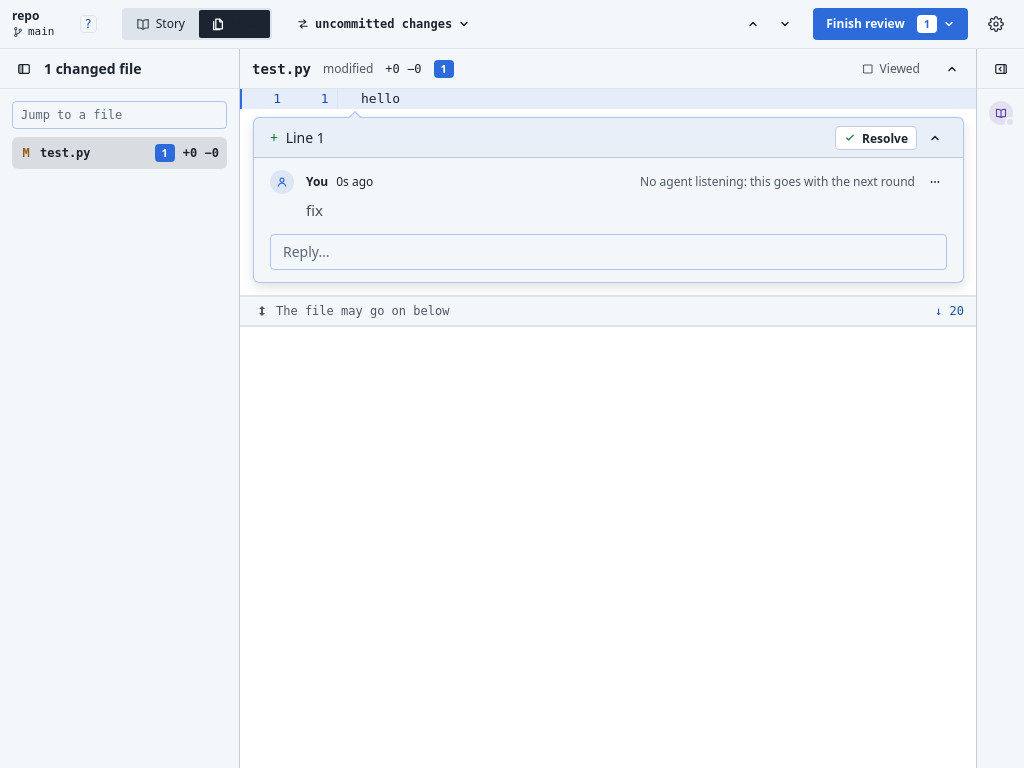
Test: the pane the review is sent from › takes the reader, keyboard and all, to the thread a row of the pane names, though a field opened it
Click the button with test id "line-gutter" at (313, 99), box [289,89,336,109]
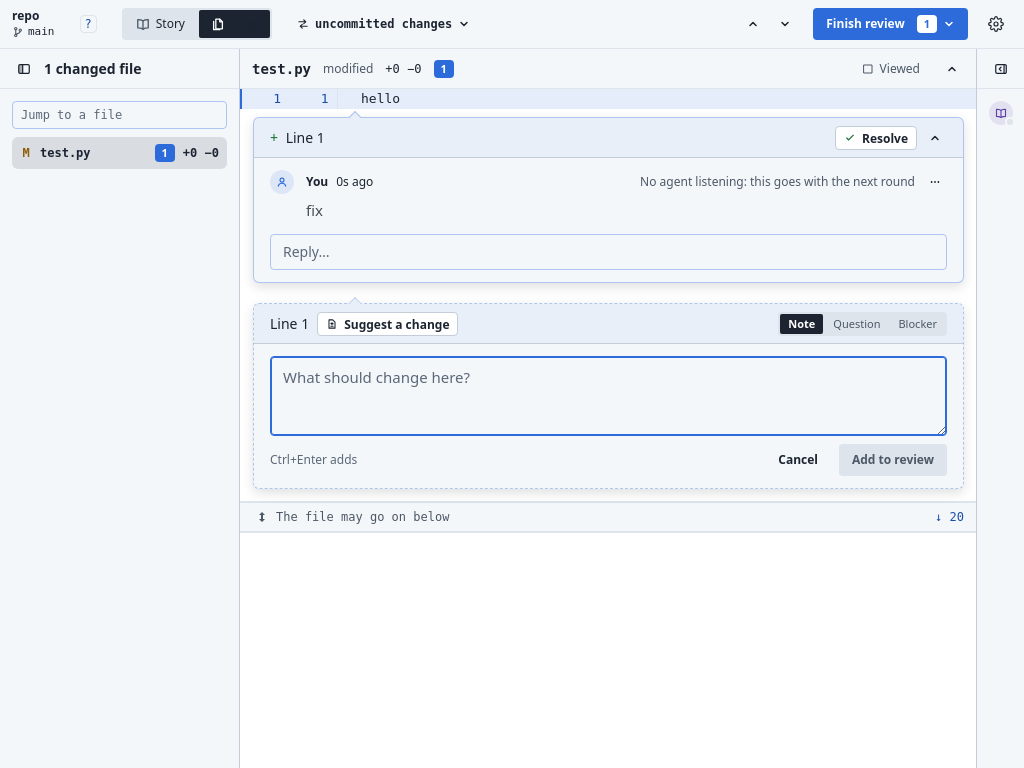
Type keys "{Control>}{Shift>}{Enter}{/Shift}{/Control}"
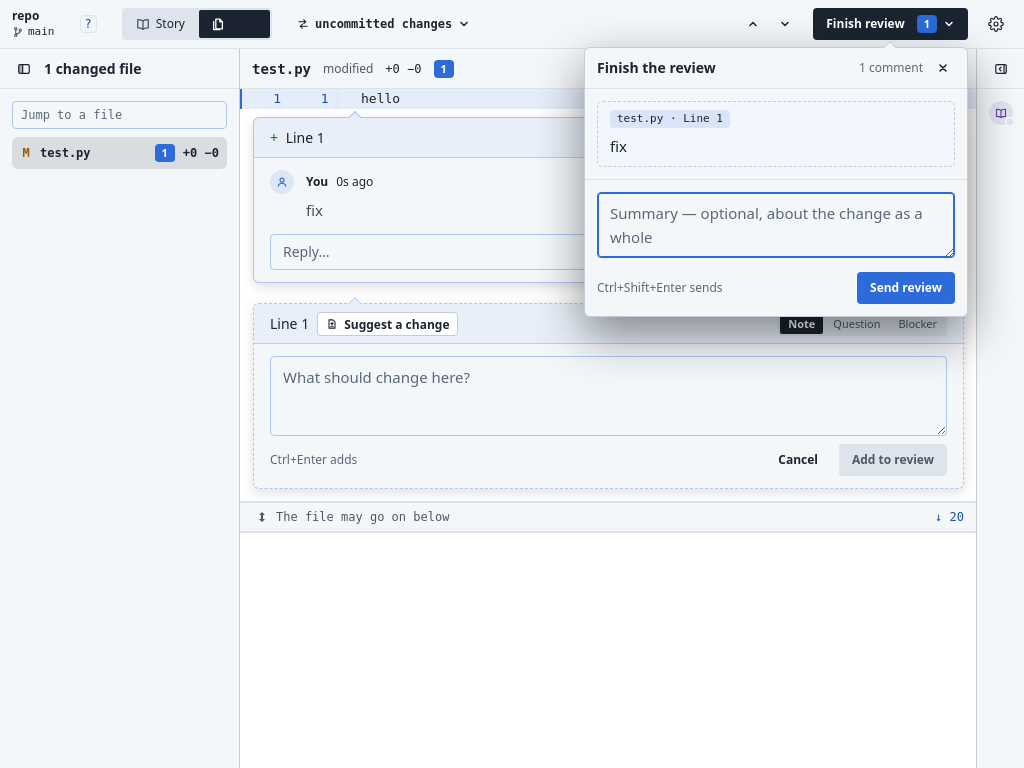
Click the button with test id "finish-comment" at (670, 119), box [597,101,955,167]
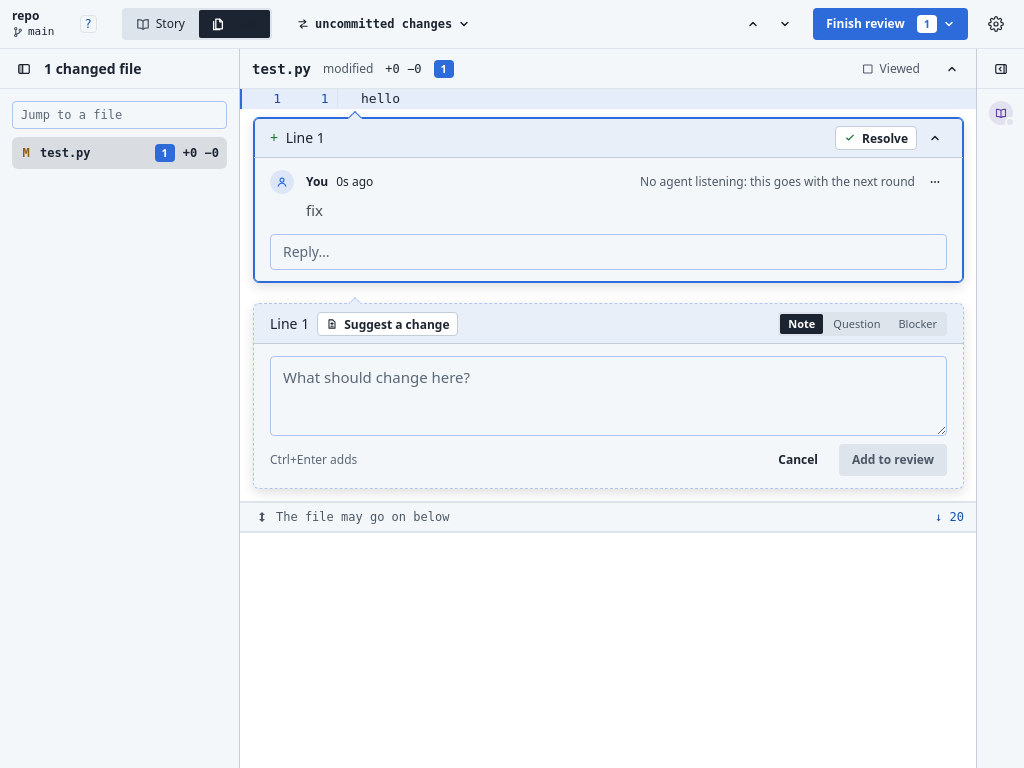
Result: the dialog with test id "finish-review" is gone
